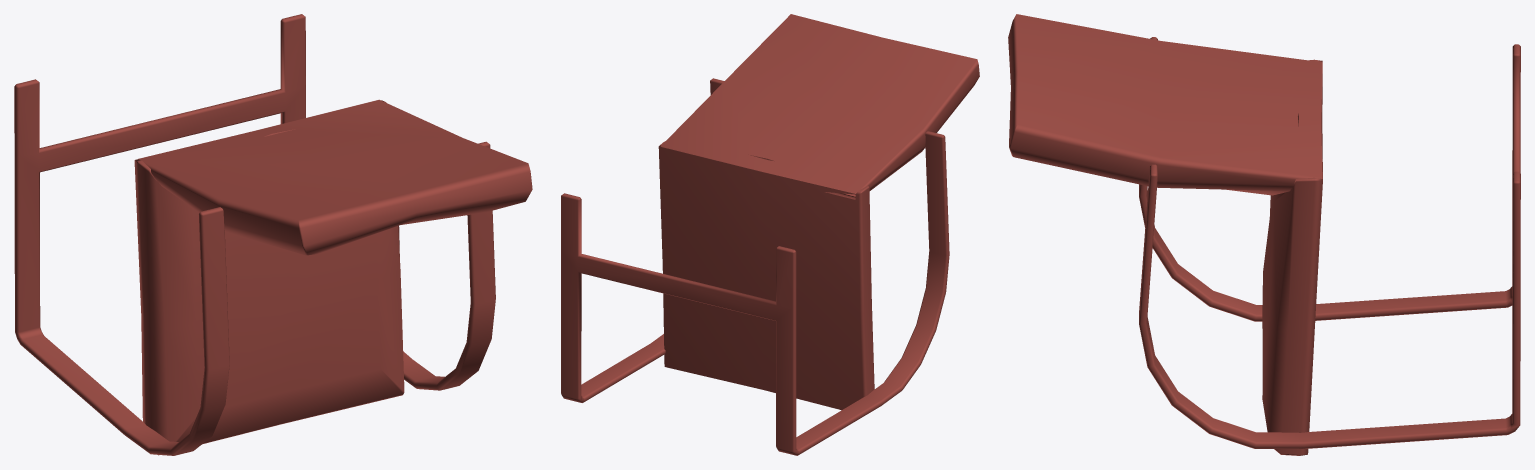
Rendered from Chair_204.obj.
The picture shows the model from 3 angles, left to right: view 1: azimuth 30°, elevation 25°; view 2: azimuth 150°, elevation 25°; view 3: azimuth 270°, elevation 25°; orthographic projection. The views are drawn at different scales.
Visible parts, largest first — view 1: Chair_204; view 2: Chair_204; view 3: Chair_204.
Part boxes in pixels (x1,y1,x2,y2): Chair_204: (14,14,532,455); Chair_204: (561,14,979,455); Chair_204: (1008,14,1520,455).
Bounding box in the file's own units: 0.5294 × 0.5816 × 0.8243.
